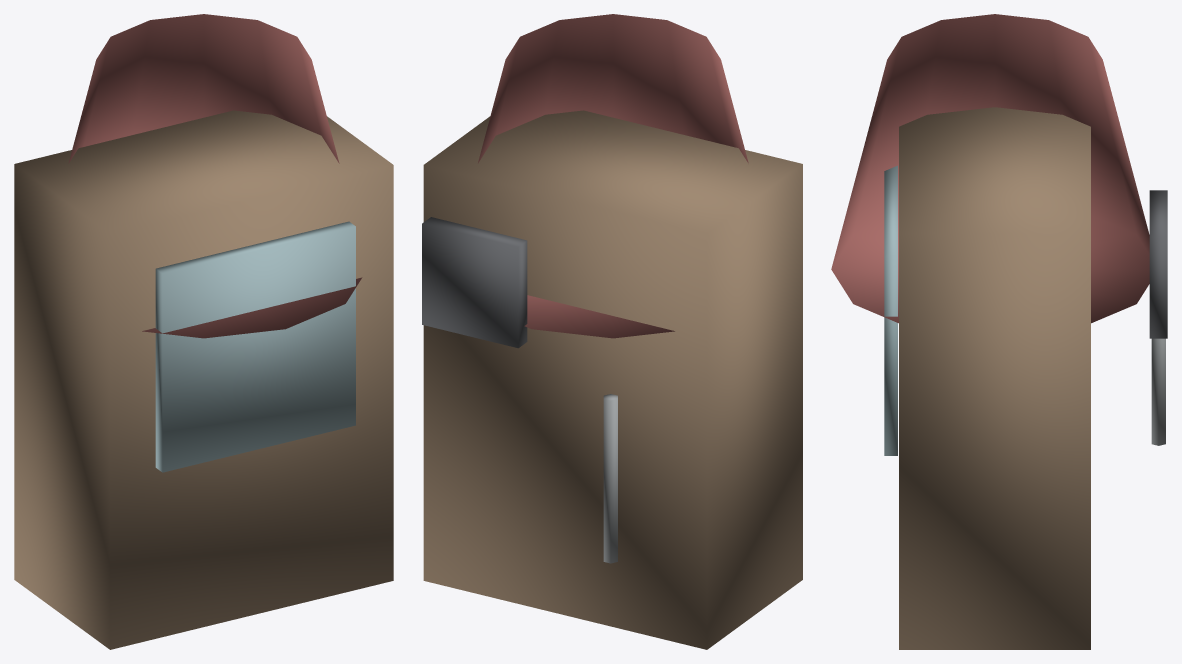
The model's file is jukebox__service.glb.
3 views of the same model, side by side, from view 1: azimuth 30°, elevation 25°; view 2: azimuth 150°, elevation 25°; view 3: azimuth 270°, elevation 25° (orthographic).
Visible parts, largest first — view 1: world; view 2: world; view 3: world.
Part boxes in pixels (x1=…): world: x1=14, y1=14, x2=393, y2=649; world: x1=422, y1=14, x2=802, y2=649; world: x1=831, y1=14, x2=1167, y2=649.
Size of the model in its own units: 0.82 by 1.44 by 0.8425.
